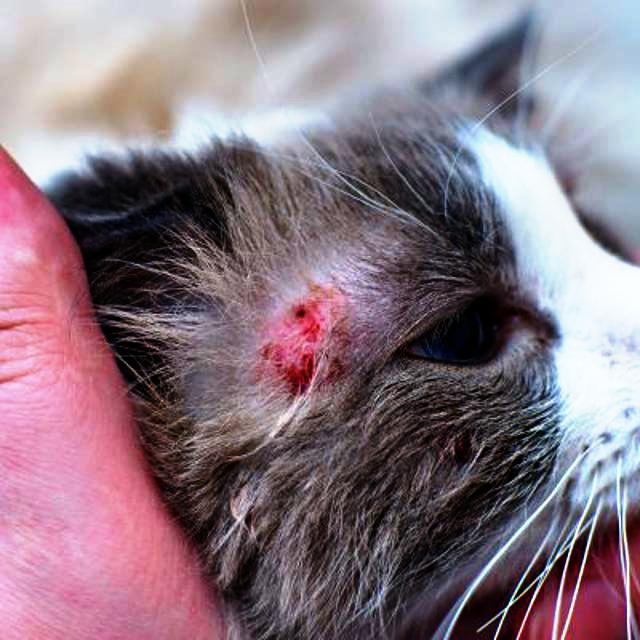ringworm: (251, 288, 347, 405)
